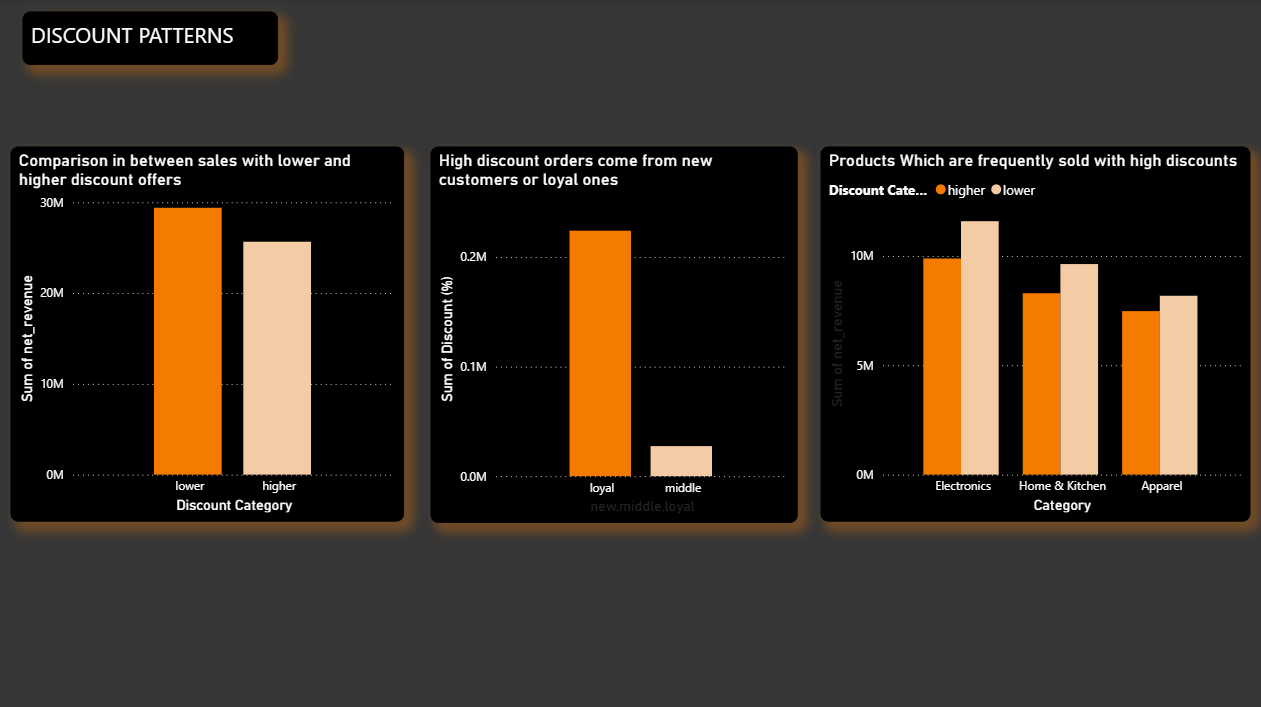

What the dashboard file says about the page in this screenshot:
{"tool":"powerbi","page":{"name":"Page 5","canvas":[1280,720],"ordinal":4},"visuals":[{"type":"columnChart","title":"Comparison in between sales with lower and higher discount offers","fields":{"Category":["Sales.Discount Category"],"Y":["Sum(Sales.net_revenue)"]},"box":[14.3,149.5,397.7,378.6],"z":0},{"type":"clusteredColumnChart","title":"Products Which are frequently sold with high discounts","fields":{"Category":["Products.Category"],"Y":["Sum(Sales.net_revenue)"],"Series":["Sales.Discount Category"]},"box":[831.9,149.5,434.2,378.6],"z":1000},{"type":"clusteredColumnChart","title":"High discount orders come from new customers or loyal ones","fields":{"Category":["Customers.new,middle,loyal"],"Y":["Sum(Sales.Discount (%))"]},"box":[437.4,149.5,370.6,380.2],"z":2000},{"type":"textbox","box":[25.4,14.3,257.7,54.1],"z":3000}]}

Visuals, with their boxes in screenshot pixels (x1, y1, x2, y2), scaled from the page's 1280x720 canvas onto the 1261x707 screenshot:
"Comparison in between sales with lower and higher discount offers" columnChart: (14,147,406,519)
"Products Which are frequently sold with high discounts" clusteredColumnChart: (820,147,1247,519)
"High discount orders come from new customers or loyal ones" clusteredColumnChart: (431,147,796,520)
textbox: (25,14,279,67)
